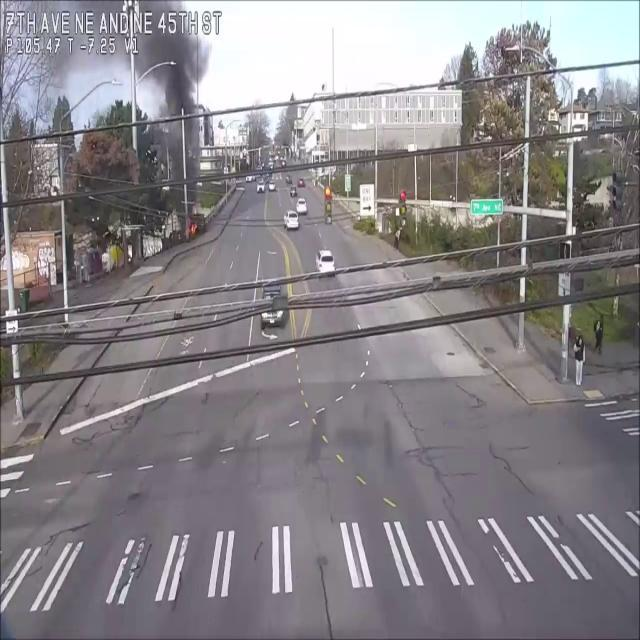Smoke: (138, 4, 214, 215)
